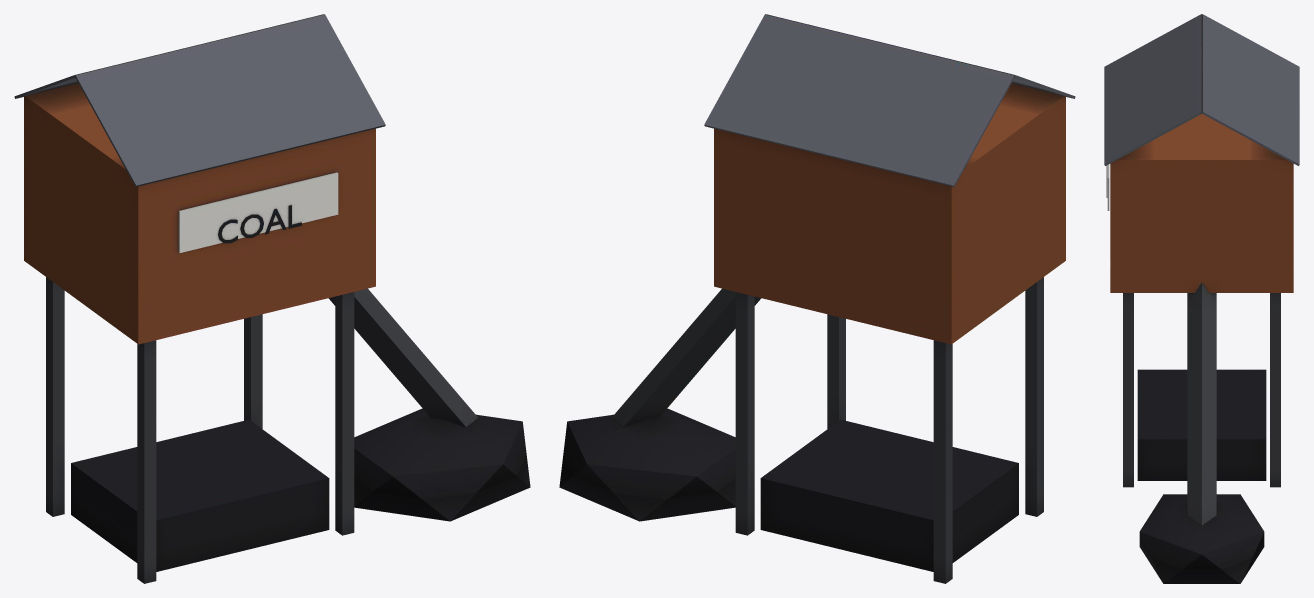
Rendered from tipple_carbon.glb.
The picture shows the model from 3 angles, left to right: view 1: azimuth 30°, elevation 25°; view 2: azimuth 150°, elevation 25°; view 3: azimuth 270°, elevation 25°; orthographic projection. The views are drawn at different scales.
Parts seen in each view (by area): view 1: tipple_carbon; view 2: tipple_carbon; view 3: tipple_carbon.
Part boxes in pixels (<box>): tipple_carbon: <box>14,14,530,583</box>; tipple_carbon: <box>559,14,1075,583</box>; tipple_carbon: <box>1104,14,1299,583</box>.
Size of the model in its own units: 22.59 by 25.45 by 10.66.
1 material, 1 textured.
